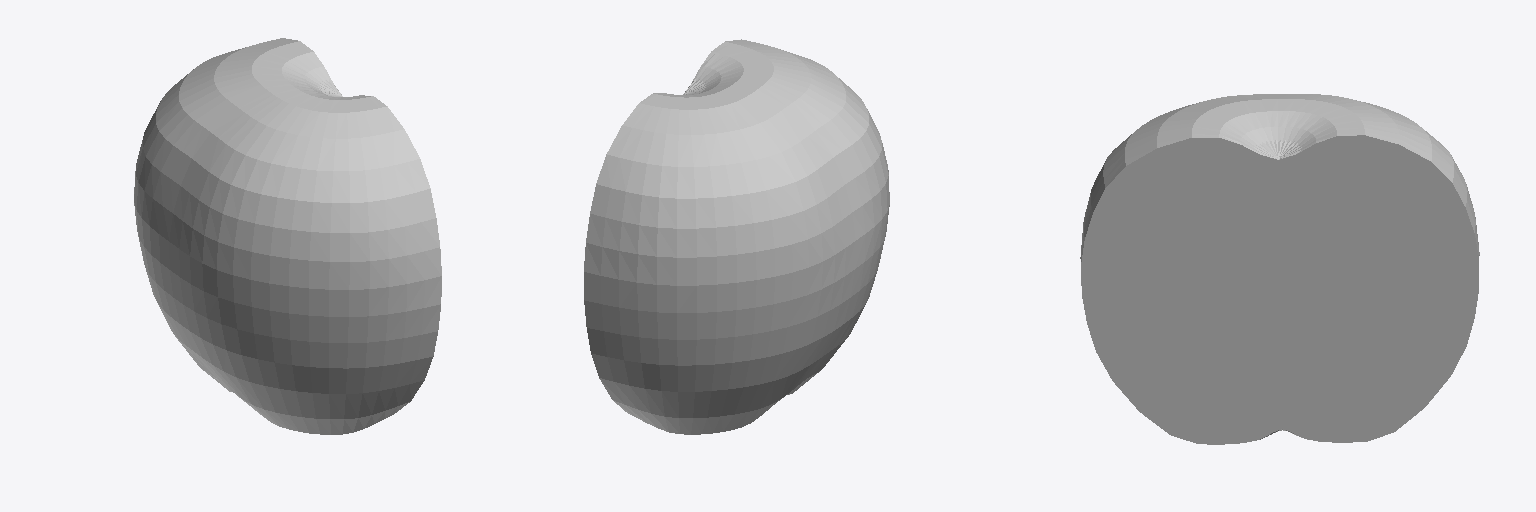
File: Apple1.obj
3 views of the same model, side by side, from view 1: azimuth 30°, elevation 25°; view 2: azimuth 150°, elevation 25°; view 3: azimuth 270°, elevation 25° (orthographic).
Visible parts, largest first — view 1: Apples.001_Cylinder.001; view 2: Apples.001_Cylinder.001; view 3: Apples.001_Cylinder.001.
Part boxes in pixels (bbox=[...]): Apples.001_Cylinder.001: bbox=[134, 38, 441, 434]; Apples.001_Cylinder.001: bbox=[584, 39, 889, 434]; Apples.001_Cylinder.001: bbox=[1080, 94, 1479, 444].
Bounding box in the file's own units: 1.03 × 1.83 × 2.03.